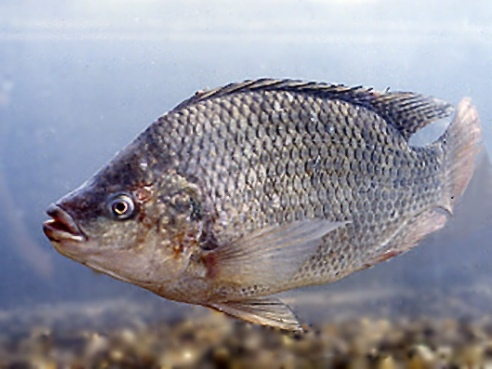fish: (39, 76, 481, 341)
